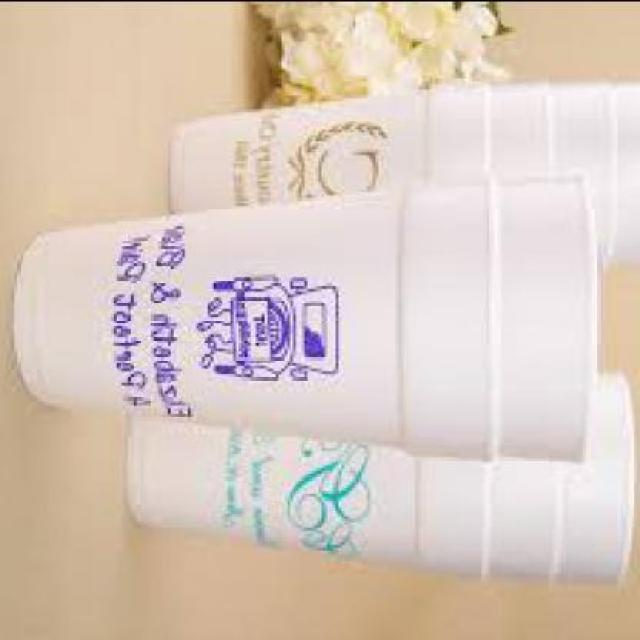BIODEGRADABLE: (253, 3, 515, 108)
PAPER: (17, 174, 603, 466), (17, 208, 500, 463), (128, 367, 637, 588), (164, 81, 638, 274), (132, 398, 494, 580), (174, 97, 503, 268)
